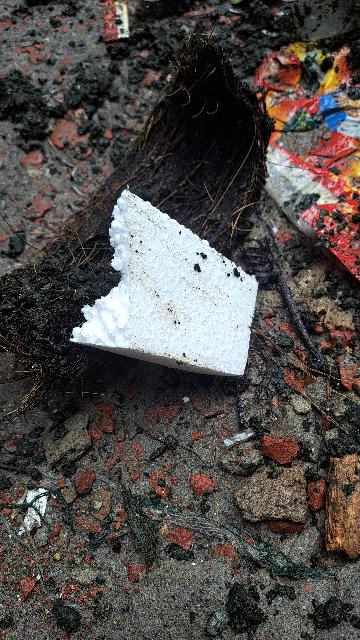cocksheet: (65, 158, 289, 418)
